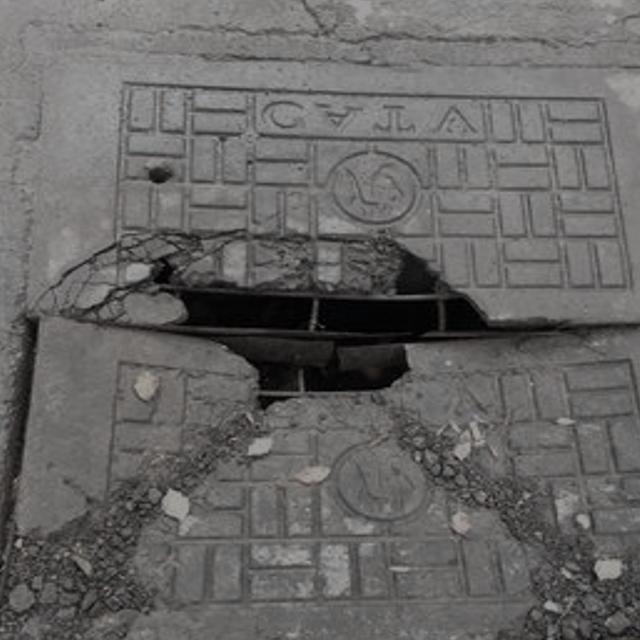broke: (0, 31, 640, 640)
